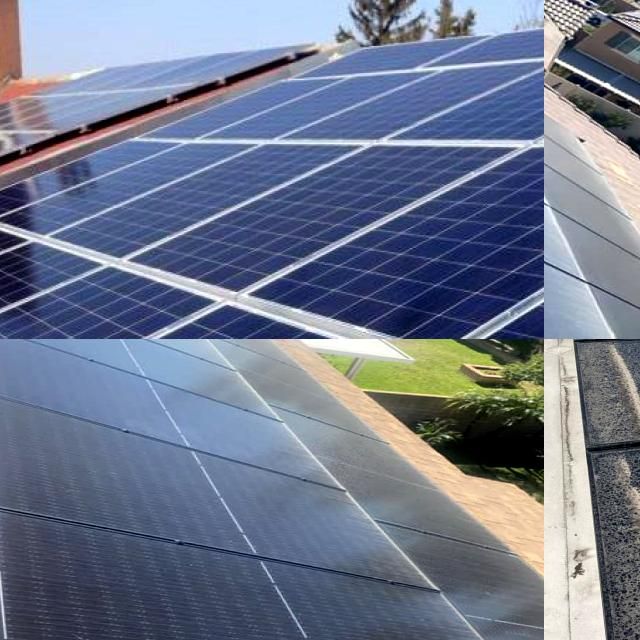crack: (0, 79, 544, 339), (0, 283, 426, 339)
dust: (348, 412, 544, 516), (596, 453, 640, 640), (574, 339, 640, 436), (467, 339, 544, 397), (544, 179, 588, 233), (562, 339, 603, 382), (608, 183, 640, 228), (565, 339, 636, 358)
